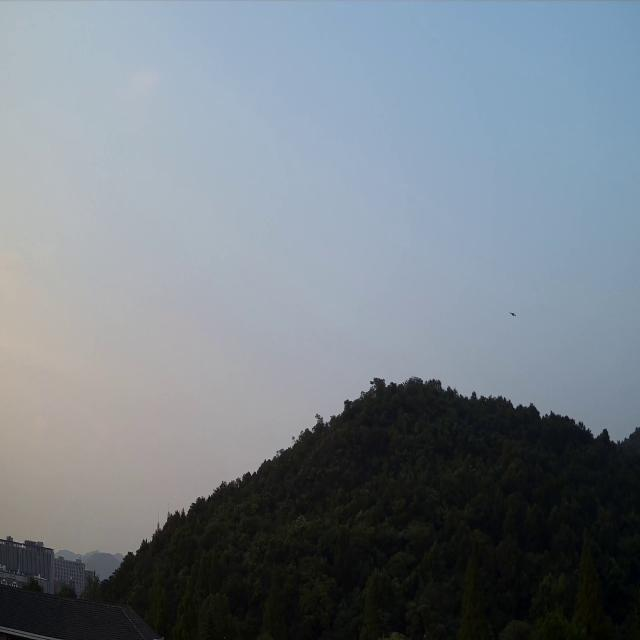UAV: (509, 310, 516, 317)
